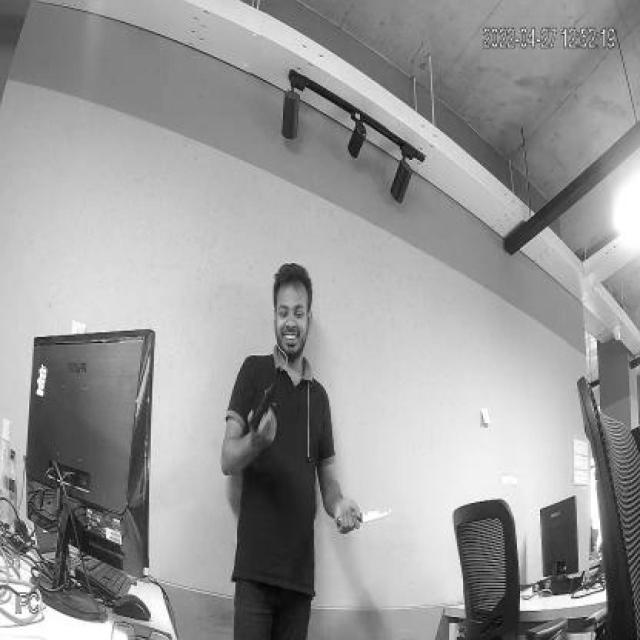weapon: (241, 382, 284, 447)
